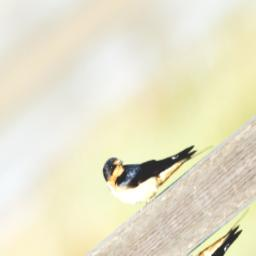Swallow: (96, 94, 219, 225)
